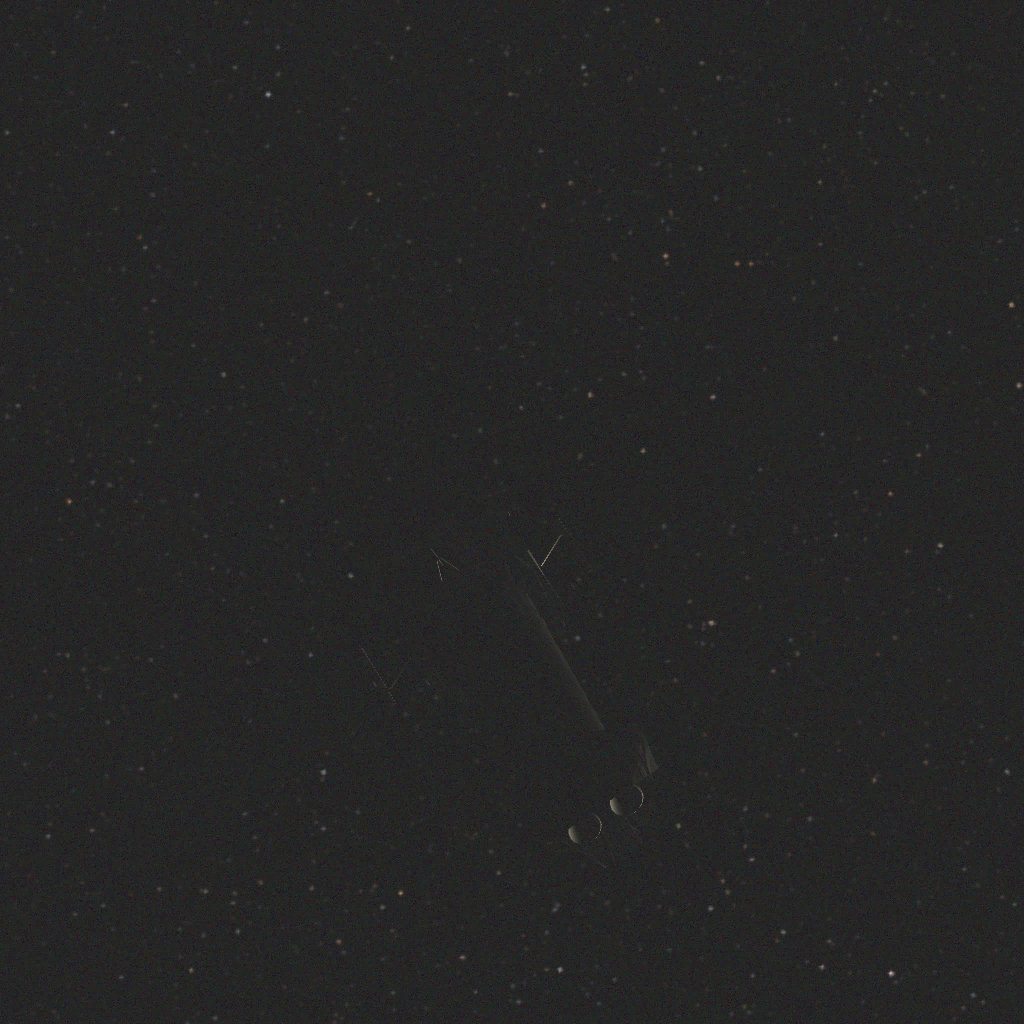xmm_newton: (112, 351, 840, 873)
